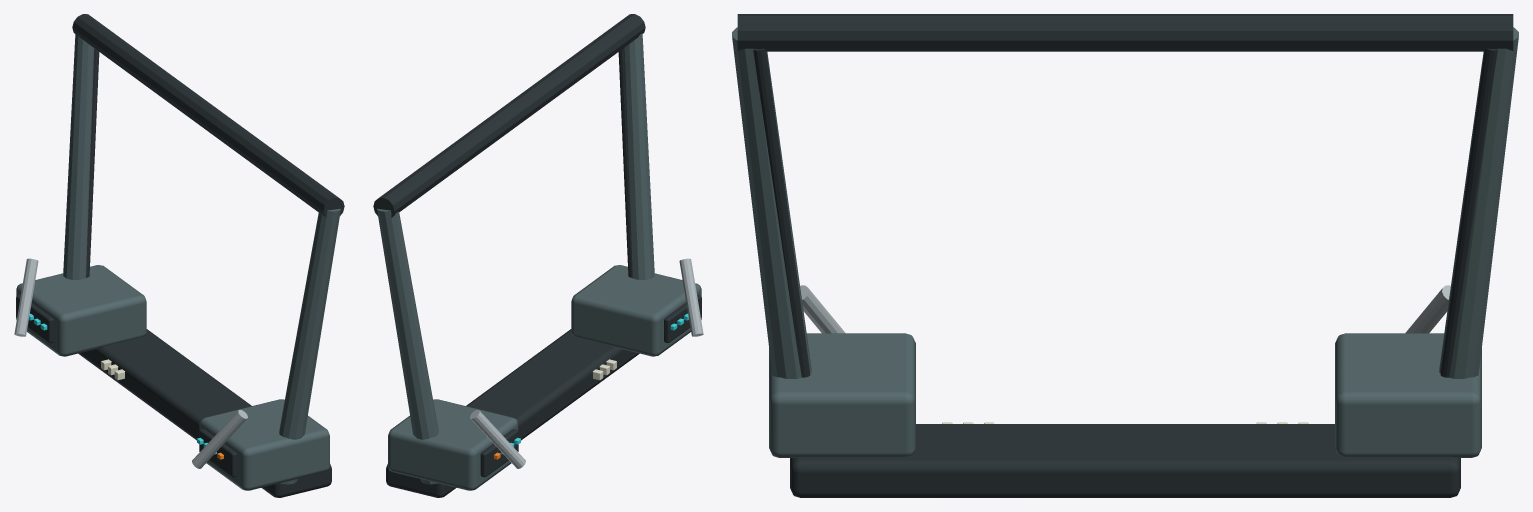
Rendered from SM_LoaderCockpit.fbx.
3 renders of one model, left to right at view 1: azimuth 30°, elevation 25°; view 2: azimuth 150°, elevation 25°; view 3: azimuth 270°, elevation 25°, orthographic. The views are drawn at different scales.
Parts seen in each view (by area): view 1: SM_LoaderCockpit; view 2: SM_LoaderCockpit; view 3: SM_LoaderCockpit.
Boxes of the visible parts, x1,y1,x2,y2 form: SM_LoaderCockpit: [14, 14, 344, 497]; SM_LoaderCockpit: [373, 14, 703, 497]; SM_LoaderCockpit: [732, 14, 1518, 497].
Size of the model in its own units: 20.8 by 75.08 by 49.8.
